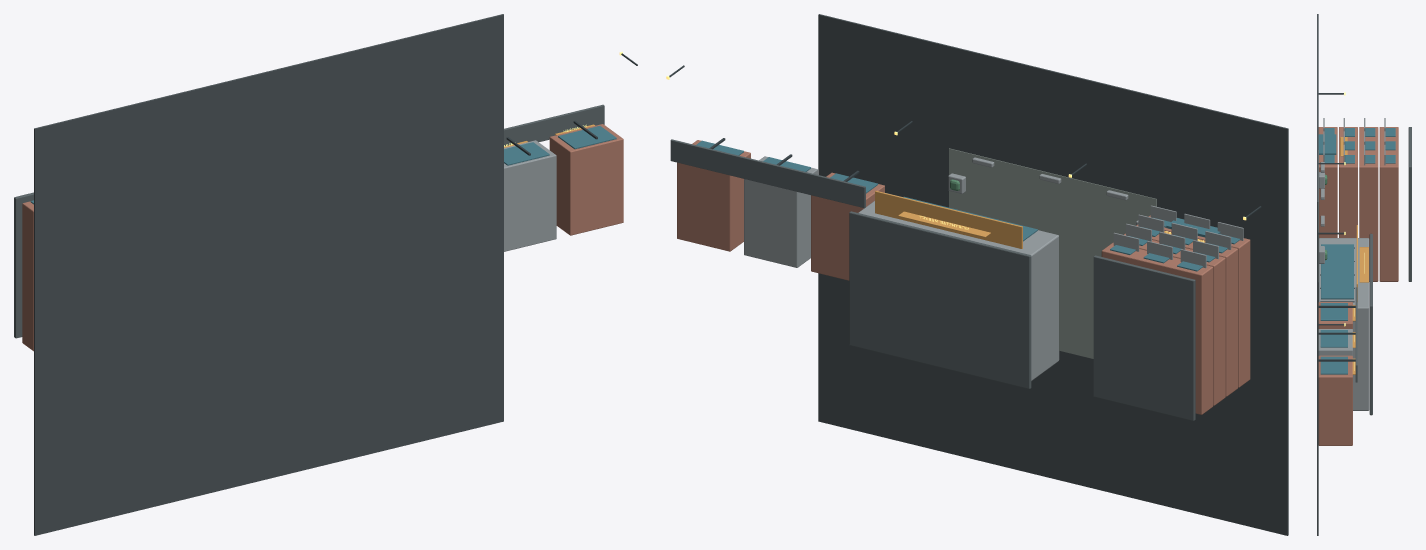
File: residential_life_cluster.glb
3 views of the same model, side by side, from view 1: azimuth 30°, elevation 25°; view 2: azimuth 150°, elevation 25°; view 3: azimuth 270°, elevation 25° (orthographic). The views are drawn at different scales.
Visible parts, largest first — view 1: DistrictPlazaGround, PlazaShop2, PlazaShop1, ArcadeRoof, ApartmentFloor3, ApartmentRoof, Shopfront.002; view 2: DistrictPlazaGround, SupermarketRoof, CentralPedestrianCourt, ApartmentRoof, PlazaShop2, PlazaShop1, SupermarketShell, ArcadeRoof, ApartmentFloor3, PlazaShop0, SupermarketCanopy, ApartmentFloor2 (+2 smaller); view 3: ApartmentFloor3, PlazaShop2, SupermarketShell, ApartmentFloor2, SupermarketCurtainWall, ApartmentFloor1, ApartmentFloor0, DistrictPlazaGround, SupermarketRoof, ApartmentRoof, Shopfront.002, PlazaShop1 (+7 smaller).
Boxes of the visible parts, x1,y1,x2,y2 form: DistrictPlazaGround: [34, 14, 503, 535]; PlazaShop2: [549, 124, 623, 235]; PlazaShop1: [504, 140, 556, 251]; ArcadeRoof: [504, 104, 604, 145]; ApartmentFloor3: [22, 201, 33, 351]; ApartmentRoof: [14, 192, 33, 338]; Shopfront.002: [558, 126, 616, 149]; DistrictPlazaGround: [818, 14, 1288, 535]; SupermarketRoof: [849, 211, 1031, 388]; CentralPedestrianCourt: [949, 148, 1156, 358]; ApartmentRoof: [1093, 255, 1195, 420]; PlazaShop2: [677, 140, 750, 251]; PlazaShop1: [744, 156, 817, 267]; SupermarketShell: [858, 193, 1059, 380]; ArcadeRoof: [670, 139, 865, 208]; ApartmentFloor3: [1101, 242, 1213, 414]; PlazaShop0: [811, 172, 884, 280]; SupermarketCanopy: [875, 190, 1022, 248]; ApartmentFloor2: [1124, 233, 1225, 405]; ApartmentFloor3: [1379, 127, 1398, 281]; PlazaShop2: [1318, 355, 1352, 445]; SupermarketShell: [1318, 238, 1369, 410]; ApartmentFloor2: [1359, 127, 1378, 281]; SupermarketCurtainWall: [1321, 244, 1353, 299]; ApartmentFloor1: [1339, 127, 1357, 237]; ApartmentFloor0: [1318, 127, 1337, 238]; DistrictPlazaGround: [1317, 14, 1318, 535]; SupermarketRoof: [1369, 233, 1372, 415]; ApartmentRoof: [1408, 127, 1411, 281]; Shopfront.002: [1320, 356, 1347, 374]; PlazaShop1: [1318, 329, 1352, 355].
Bounding box in the file's own units: 90.22 × 58 × 14.94.
